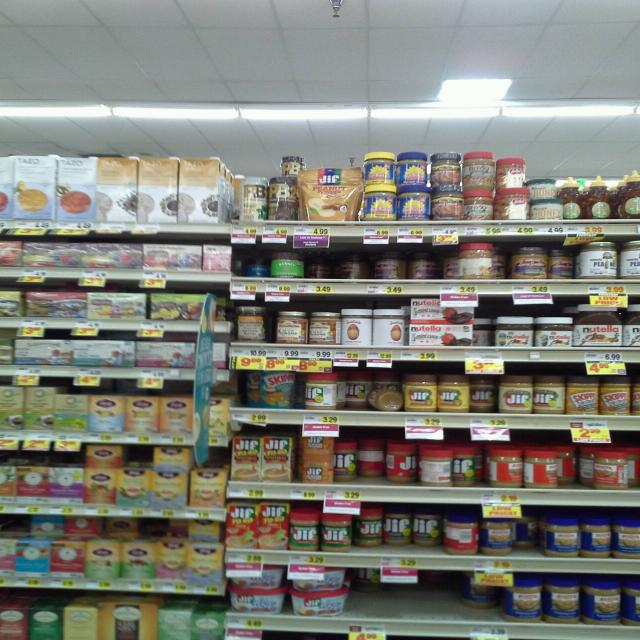unorganised: (350, 511, 442, 553), (306, 251, 437, 278), (333, 442, 415, 485), (560, 447, 640, 489), (29, 516, 144, 537), (562, 176, 616, 220), (347, 372, 402, 411), (244, 371, 299, 408), (459, 241, 506, 280), (417, 443, 452, 491), (443, 515, 480, 557), (302, 371, 341, 409), (524, 449, 560, 490), (489, 445, 522, 489), (236, 303, 273, 342), (512, 243, 550, 278), (370, 309, 405, 346), (451, 447, 483, 484), (514, 514, 542, 556), (470, 374, 498, 413), (499, 155, 530, 188), (548, 246, 575, 279), (470, 586, 503, 610), (524, 179, 556, 200), (474, 319, 495, 347), (245, 257, 272, 277)
